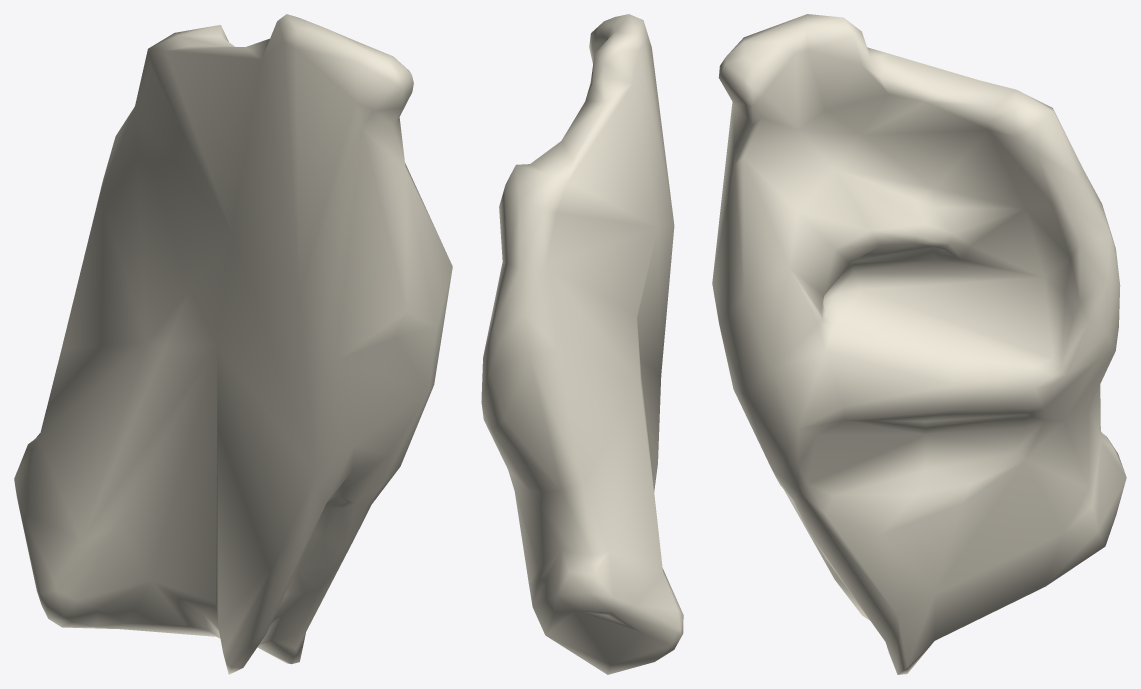
3 renders of one model, left to right at view 1: azimuth 30°, elevation 25°; view 2: azimuth 150°, elevation 25°; view 3: azimuth 270°, elevation 25°, orthographic. The views are drawn at different scales.
Parts seen in each view (by area): view 1: ZA_5a1dc2b05b96319c; view 2: ZA_5a1dc2b05b96319c; view 3: ZA_5a1dc2b05b96319c.
Boxes of the visible parts, box(x1,y1,x2,y2) form: ZA_5a1dc2b05b96319c: box(14, 14, 452, 674); ZA_5a1dc2b05b96319c: box(481, 14, 683, 674); ZA_5a1dc2b05b96319c: box(712, 14, 1126, 674).
Size of the model in its own units: 0.0107 by 0.0251 by 0.0147.
